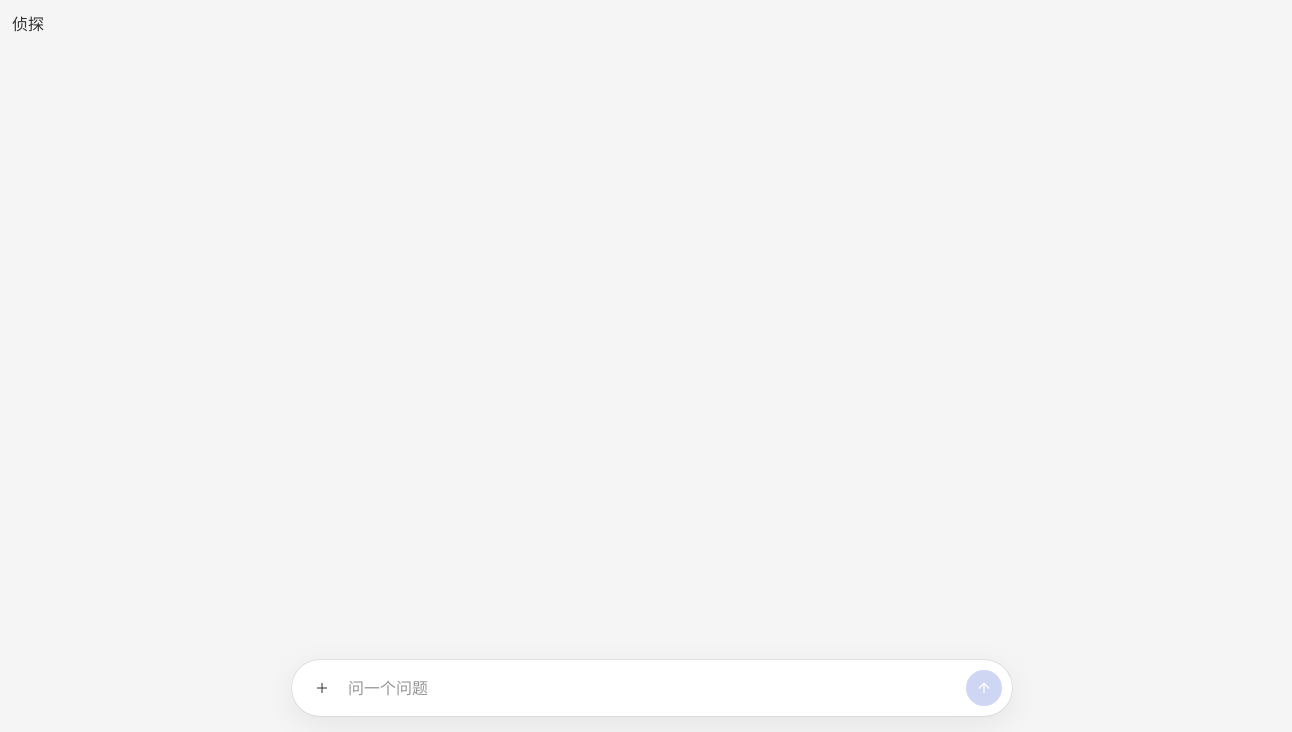
Scenario: 侦探输入口 › 加号先打开菜单，选择资料类型后才打开表单，空问题无法发送
Expected: the button named "查证" is disabled, [966, 670, 1002, 706]
Press Enter in the button named "添加简历或参赛资料", box [304, 670, 340, 706]
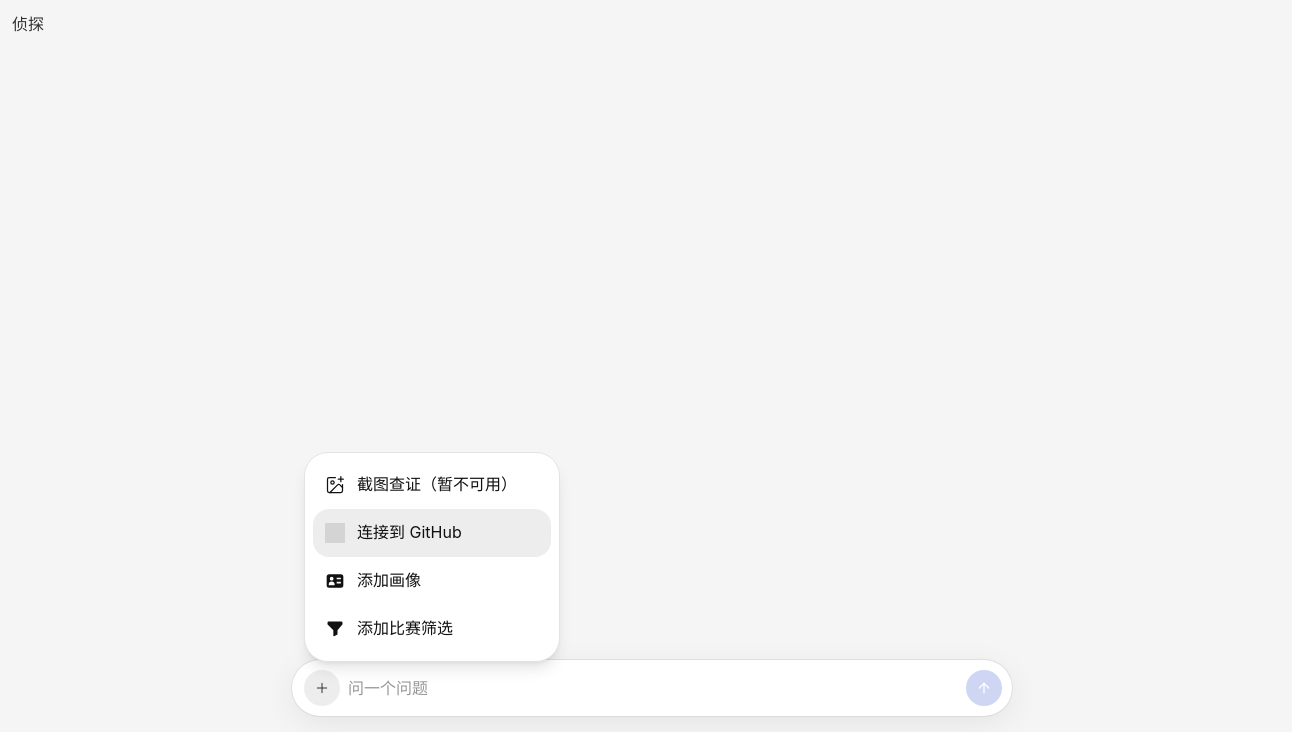
Expected: the number of menu items is 4
Click the menu item "添加画像": (373, 581) [325, 570, 421, 591]
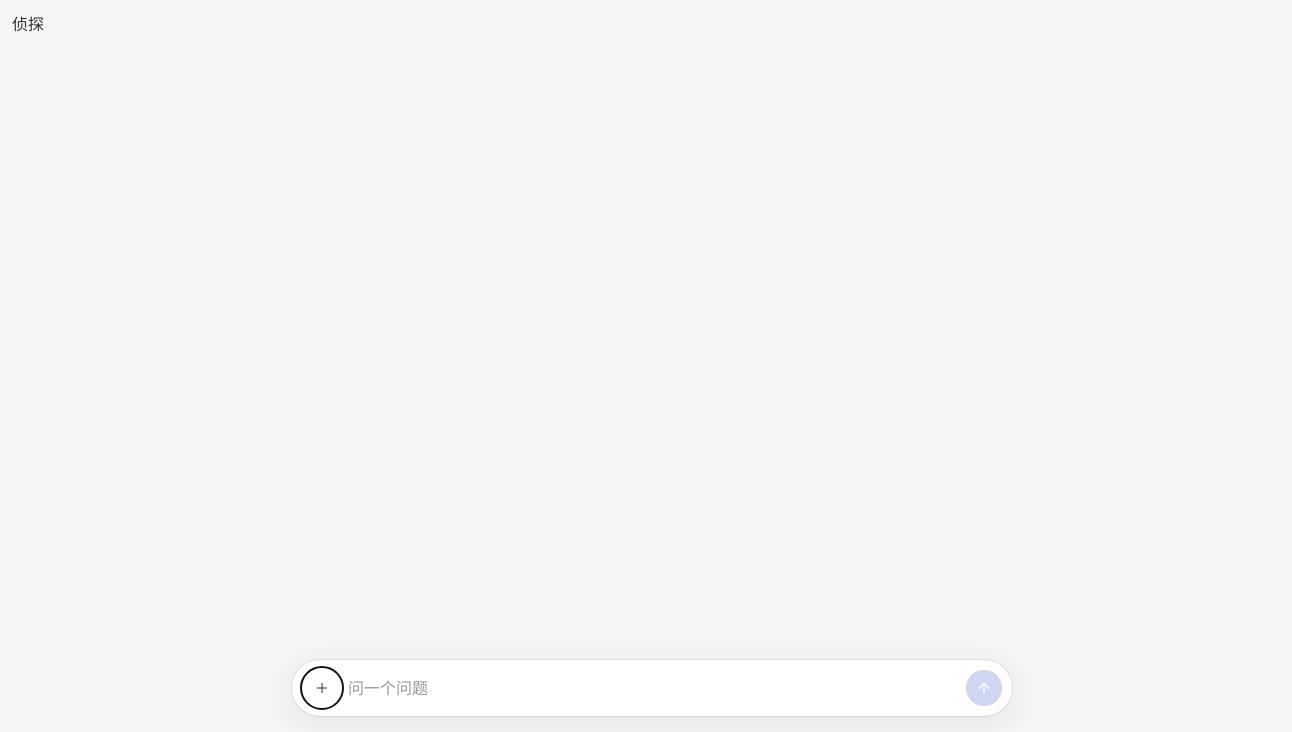
Expected: the menu is gone
